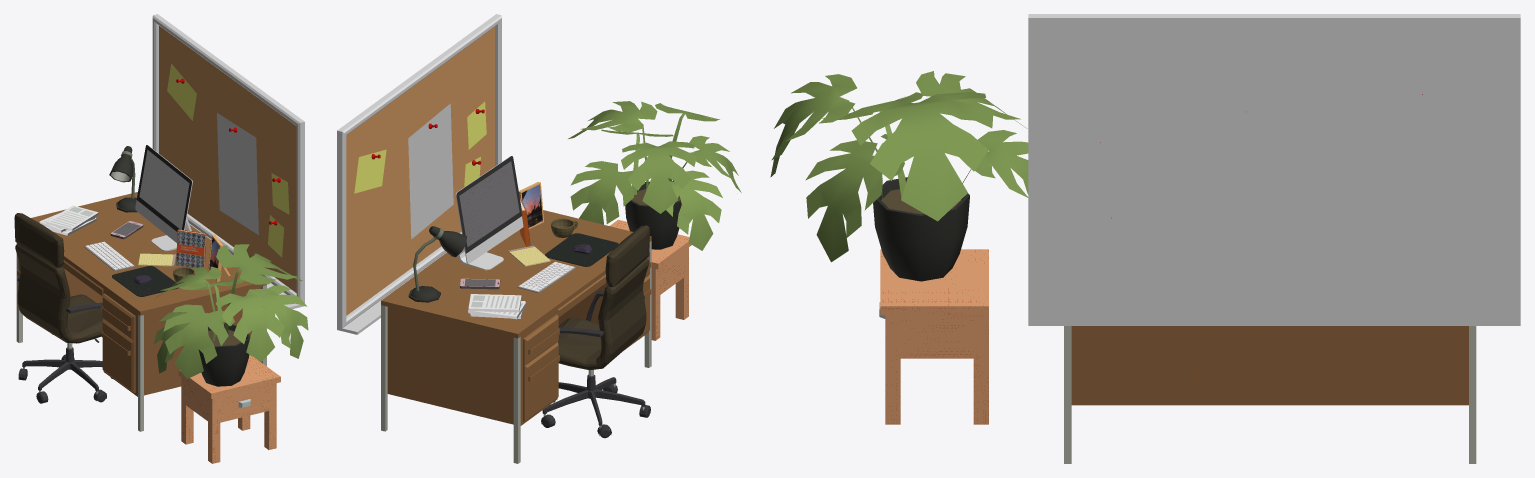
3 views of the same model, side by side, from view 1: azimuth 30°, elevation 25°; view 2: azimuth 150°, elevation 25°; view 3: azimuth 270°, elevation 25° (orthographic). The views are drawn at different scales.
Parts seen in each view (by area): view 1: Blank Picture Frame|Node.007|Dupli|, Message_Board, Monitor_Plane, Monitor.001|iMac|Dupli|, VAP-cover; view 2: Blank Picture Frame|Node.007|Dupli|, Message_Board, Monitor_Plane, Monitor.001|iMac|Dupli|, cornell-tech-sky; view 3: Message_Board, Blank Picture Frame|Node.007|Dupli|.
Boxes of the visible parts, box(x1,y1,x2,y2) form: Blank Picture Frame|Node.007|Dupli|: box(14, 146, 308, 463); Message_Board: box(152, 14, 304, 309); Monitor_Plane: box(113, 149, 189, 235); Monitor.001|iMac|Dupli|: box(135, 145, 192, 251); VAP-cover: box(176, 231, 204, 267); Blank Picture Frame|Node.007|Dupli|: box(381, 101, 741, 463); Message_Board: box(337, 14, 501, 334); Monitor_Plane: box(459, 161, 519, 286); Monitor.001|iMac|Dupli|: box(455, 156, 523, 270); cornell-tech-sky: box(521, 184, 542, 227); Message_Board: box(1028, 14, 1520, 325); Blank Picture Frame|Node.007|Dupli|: box(770, 71, 1476, 463).
Bounding box in the file's own units: 1.65 × 2.17 × 3.15.
6 materials, 6 textured.
